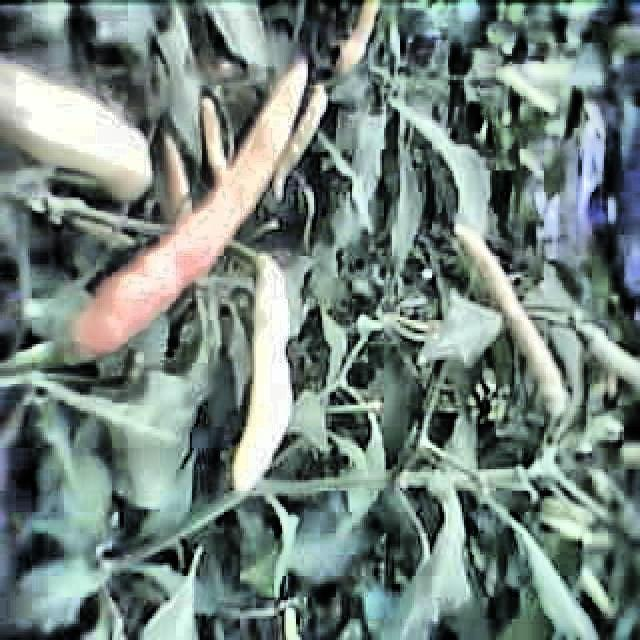Cabai: (89, 66, 298, 357)
